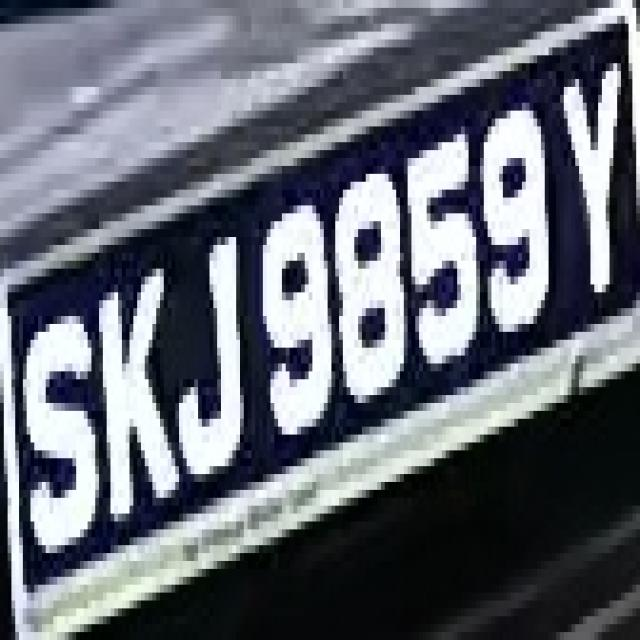5: (404, 126, 491, 380)
8: (328, 150, 412, 443)
9: (472, 95, 564, 363), (255, 182, 339, 458)
J: (160, 197, 251, 490)
K: (91, 253, 179, 553)
S: (12, 276, 92, 576)
Y: (556, 39, 636, 324)
